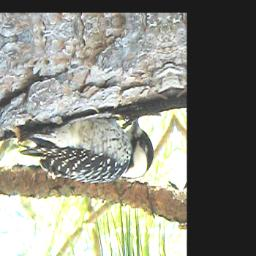Woodpecker: (13, 103, 156, 199)
